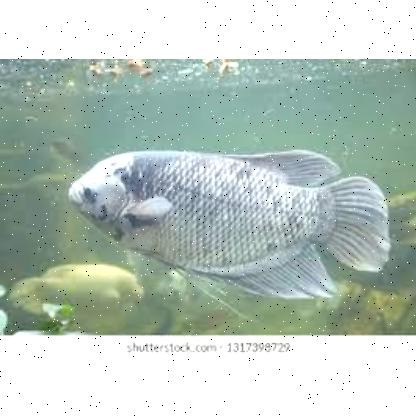gurame: (70, 149, 390, 297)
